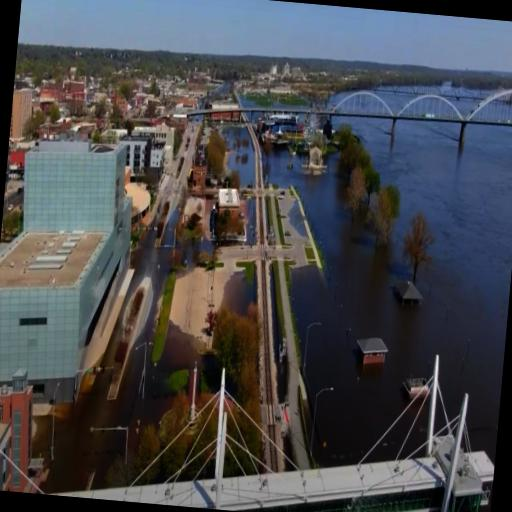flood: (332, 117, 512, 462), (263, 147, 390, 465), (46, 248, 199, 492), (101, 267, 141, 364), (376, 400, 422, 459), (400, 394, 431, 458), (31, 413, 51, 463), (435, 394, 446, 432), (450, 409, 459, 419)
house: (0, 128, 140, 400), (4, 372, 36, 492), (130, 121, 176, 172), (121, 127, 151, 180), (354, 332, 389, 376), (9, 84, 34, 139), (394, 276, 426, 308), (214, 183, 242, 219), (192, 162, 210, 190)
